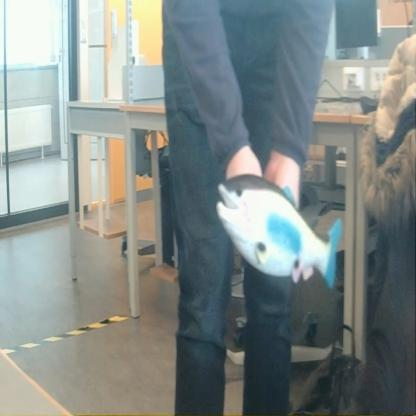rubberfish: (215, 170, 345, 294)
